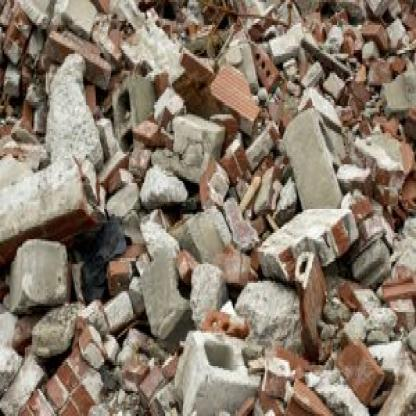brick: (93, 1, 414, 414), (1, 1, 295, 413)
